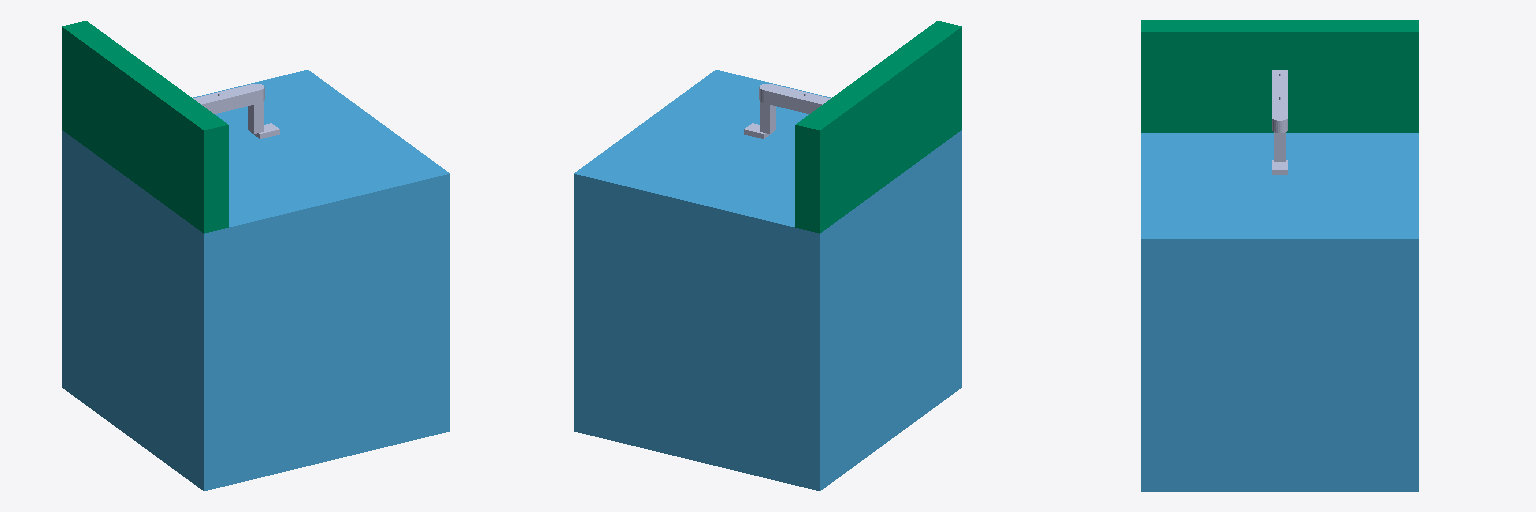
The robot description file, URDF, robot "baugruppe_asm":
<robot name="baugruppe_asm">

  <link name = "world">
      <origin xyz="0 0 0"></origin>
  </link>


  <link name="baseBox">
    <visual>
      <geometry>
        <box size="1 1 1"></box>
      </geometry>
      <origin xyz="0.5 0 0"></origin>
    </visual>
  </link>
  <joint name="world_to_baseBox" type="fixed">
    <parent link="world"></parent>
    <child link="baseBox"></child>
    <origin xyz="0 0 50"></origin>
    <axis xyz="1 0 0"></axis>
  </joint>



  <link name="robotBase">
    <visual>
      <geometry>
        <box size="0.1 1 0.4"></box>
      </geometry>
      <origin xyz="0.05 0 0.2"></origin>
    </visual>
  </link>
  <joint name="baseBox_to_robotBase" type="fixed">
    <parent link="baseBox"></parent>
    <child link="robotBase"></child>
    <origin xyz="0 0 0.5"></origin>
    <axis xyz="1 0 0"></axis>
  </joint>




  <link
    name="base_link">
    <inertial>
      <origin
        xyz="-0.0129142860655273 0.025 8.58970379741229E-19"
        rpy="0 0 0" />
      <mass
        value="0.22068583470577" />
      <inertia
        ixx="0.000106880528372501"
        ixy="4.82532700777947E-21"
        ixz="-3.00066856808323E-21"
        iyy="0.000165002910330844"
        iyz="1.55289082629429E-21"
        izz="0.000150074813085748" />
    </inertial>
    <visual>
      <origin
        xyz="0 0 0"
        rpy="0 0 0" />
      <geometry>
        <mesh
          filename="package://senso_scara_demo/baugruppe_asm/meshes/base_link.STL" />
      </geometry>
      <material name="">
        <color
          rgba="0.792156862745098 0.819607843137255 0.933333333333333 1" />
      </material>
    </visual>
    <collision>
      <origin
        xyz="0 0 0"
        rpy="0 0 0" />
      <geometry>
        <mesh
          filename="package://senso_scara_demo/baugruppe_asm/meshes/base_link.STL" />
      </geometry>
    </collision>
  </link>
  <joint name="robotBase_to_base_link" type="fixed">
    <parent link="robotBase"></parent>
    <child link="base_link"></child>
    <origin xyz="0.15 0 0.2"></origin>
    <axis xyz="1 0 0"></axis>
  </joint>





  <link name="Link1_yellow">
    <inertial>
      <origin
        xyz="0.1 0.025016 6.9389E-18"
        rpy="0 0 0" />
      <mass
        value="0.74176" />
      <inertia
        ixx="0.00036662"
        ixy="-5.2521E-21"
        ixz="-2.4395E-19"
        iyy="0.0040213"
        iyz="-3.253E-20"
        izz="0.0039643" />
    </inertial>
    <visual>
      <origin
        xyz="0 0 0"
        rpy="0 0 0" />
      <geometry>
        <mesh
          filename="package://senso_scara_demo/baugruppe_asm/meshes/Link1_yellow.STL" />
      </geometry>
      <material
        name="">
        <color
          rgba="0.79216 0.81961 0.93333 1" />
      </material>
    </visual>
    <collision>
      <origin
        xyz="0 0 0"
        rpy="0 0 0" />
      <geometry>
        <mesh
          filename="package://senso_scara_demo/baugruppe_asm/meshes/Link1_yellow.STL" />
      </geometry>
    </collision>
  </link>
  <joint
    name="Joint1"
    type="revolute">
    <origin
      xyz="0 0 0"
      rpy="1.5708 4.6905E-17 0" />
    <parent link="base_link" />
    <child link="Link1_yellow" />
    <axis xyz="0 1 0" />
	<limit effort="0" lower="-1.484" upper="1.484" velocity="0"/>
  </joint>





  <link
    name="Link2_red">
    <inertial>
      <origin
        xyz="0.084906 0.018396 0"
        rpy="0 0 0" />
      <mass
        value="0.68137" />
      <inertia
        ixx="0.00051754"
        ixy="0.00029292"
        ixz="8.8091E-19"
        iyy="0.002574"
        iyz="-1.3553E-19"
        izz="0.0027309" />
    </inertial>
    <visual>
      <origin
        xyz="0 0 0"
        rpy="0 0 0" />
      <geometry>
        <mesh
          filename="package://senso_scara_demo/baugruppe_asm/meshes/Link2_red.STL" />
      </geometry>
      <material
        name="">
        <color
          rgba="0.79216 0.81961 0.93333 1" />
      </material>
    </visual>
    <collision>
      <origin
        xyz="0 0 0"
        rpy="0 0 0" />
      <geometry>
        <mesh
          filename="package://senso_scara_demo/baugruppe_asm/meshes/Link2_red.STL" />
      </geometry>
    </collision>
  </link>
  <joint name="Joint2" type="revolute">
    <origin
      xyz="0.2 0 0"
      rpy="0 0 0" />
    <parent
      link="Link1_yellow" />
    <child
      link="Link2_red" />
    <axis
      xyz="0 1 0" />
	<limit effort="0" lower="-3.05" upper="3.05" velocity="0"/>
  </joint>






  <link
    name="Link3_purple">
    <inertial>
      <origin
        xyz="0.015 -0.0725 0"
        rpy="0 0 0" />
      <mass
        value="0.256" />
      <inertia
        ixx="0.00040267"
        ixy="0.000144"
        ixz="2.7105E-20"
        iyy="0.00021867"
        iyz="-5.421E-20"
        izz="0.00052107" />
    </inertial>
    <visual>
      <origin
        xyz="0 0 0"
        rpy="0 0 0" />
      <geometry>
        <mesh
          filename="package://senso_scara_demo/baugruppe_asm/meshes/Link3_purple.STL" />
      </geometry>
      <material
        name="">
        <color
          rgba="0.79216 0.81961 0.93333 1" />
      </material>
    </visual>
    <collision>
      <origin
        xyz="0 0 0"
        rpy="0 0 0" />
      <geometry>
        <mesh
          filename="package://senso_scara_demo/baugruppe_asm/meshes/Link3_purple.STL" />
      </geometry>
    </collision>
  </link>
  <joint
    name="Joint3"
    type="prismatic">
    <origin
      xyz="0.15 -0.02 0"
      rpy="0 -5.5511E-17 0" />
    <parent
      link="Link2_red" />
    <child
      link="Link3_purple" />
    <axis
      xyz="0 -1 0" />
	<limit effort="0" lower="-0.03" upper="0.03" velocity="0"/>
  </joint>
</robot>

--- Render facts (derived) ---
Views: 3 orthographic renders of the robot side by side, from view 1: azimuth 30°, elevation 25°; view 2: azimuth 150°, elevation 25°; view 3: azimuth 270°, elevation 25°.
Robot: baugruppe_asm — 7 links, 6 joints (2 revolute, 1 prismatic, 3 fixed); root link world; default pose: every joint at zero.
Links seen in each view (by area): view 1: baseBox, robotBase, Link2_red; view 2: baseBox, robotBase, Link2_red; view 3: baseBox, robotBase, Link2_red.
Link boxes in pixels (x1,y1,x2,y2): baseBox: (62,70,449,490); robotBase: (62,21,228,233); Link2_red: (212,84,264,115); baseBox: (574,70,961,490); robotBase: (795,21,961,233); Link2_red: (759,84,806,115); baseBox: (1141,133,1418,491); robotBase: (1141,20,1418,132); Link2_red: (1272,96,1287,144).
Bounding box of the posed robot: 1 × 1 × 1.4 m (x, y, z).
Meshes: 4 distinct files referenced, 4 mesh visuals loaded (4 binary STL).